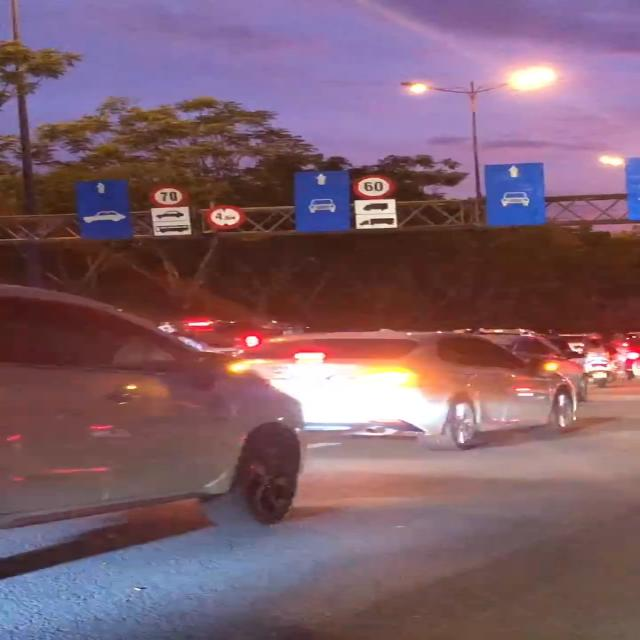Bien bao han che chieu cao: (206, 204, 245, 229)
Bien bao toc do toi da cho phep: (350, 174, 396, 199), (149, 184, 194, 208)
